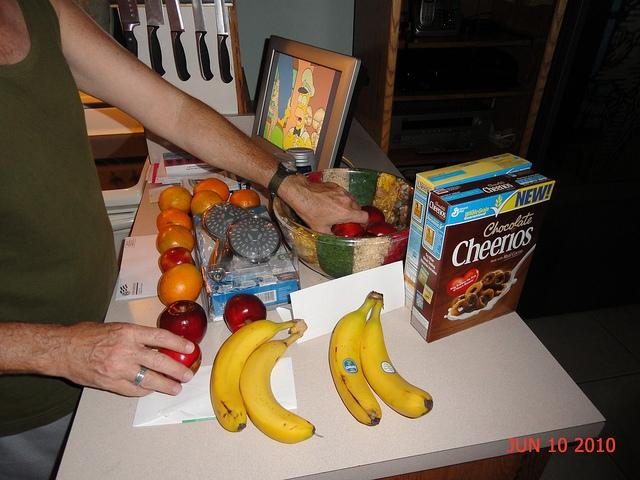apple: (158, 300, 208, 345), (158, 335, 202, 384), (224, 292, 267, 332), (159, 247, 196, 274), (360, 206, 385, 228), (331, 222, 364, 238), (366, 222, 398, 236), (352, 232, 378, 237)
banana: (210, 319, 302, 432), (239, 332, 316, 444), (360, 300, 433, 418), (328, 297, 382, 424)
orange: (158, 263, 203, 306), (158, 224, 195, 255), (158, 186, 193, 214), (192, 177, 230, 202), (190, 190, 224, 216), (156, 208, 192, 232), (229, 189, 261, 208)
